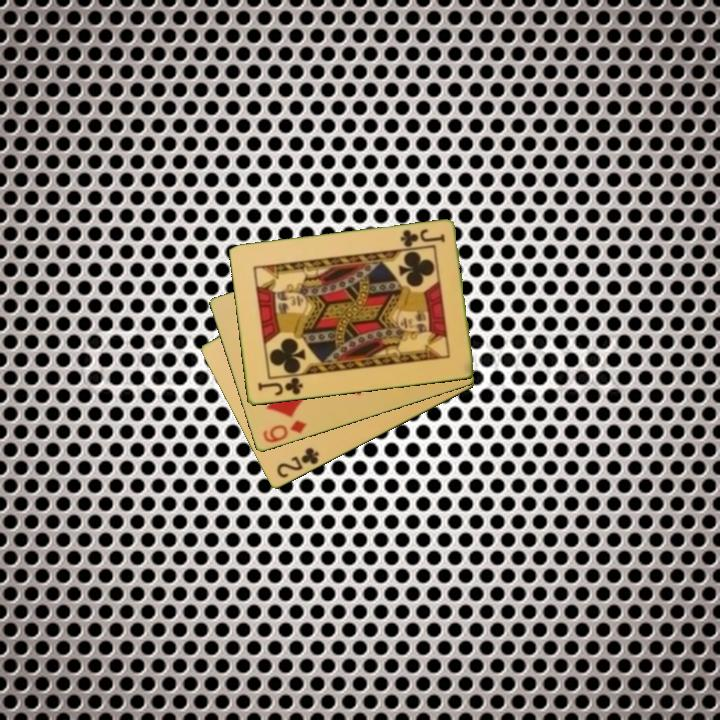2c: (273, 444, 322, 481)
6d: (259, 417, 310, 446)
Jc: (254, 374, 306, 399), (396, 226, 447, 250)
